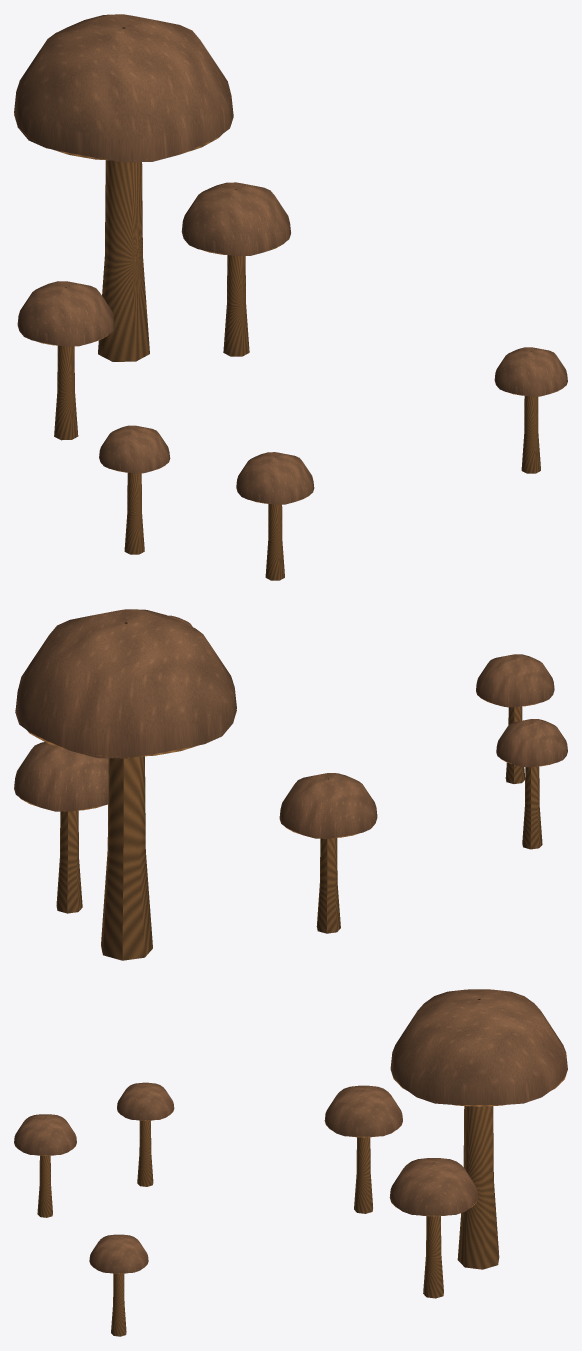
File: WoodlandCaps_B.fbx
3 views of the same model, one above another, from view 1: azimuth 30°, elevation 25°; view 2: azimuth 150°, elevation 25°; view 3: azimuth 270°, elevation 25° (orthographic). The views are drawn at different scales.
Parts seen in each view (by area): view 1: WoodlandCaps_B_LOD0; view 2: WoodlandCaps_B_LOD0; view 3: WoodlandCaps_B_LOD0.
Boxes of the visible parts, <box> form: WoodlandCaps_B_LOD0: <box>14,14,567,580</box>; WoodlandCaps_B_LOD0: <box>14,609,567,960</box>; WoodlandCaps_B_LOD0: <box>14,989,567,1336</box>.
Size of what is drawn, in the model's own units: 13.22 by 9.23 by 17.73.
Materials: 1 (1 with a texture image).
